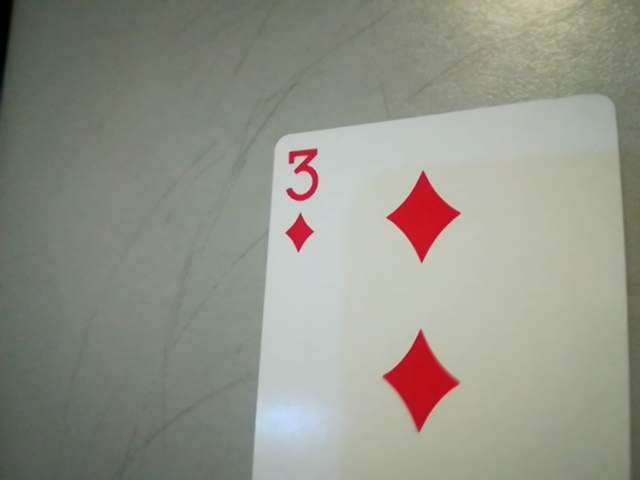fk 3: (272, 141, 334, 257)
